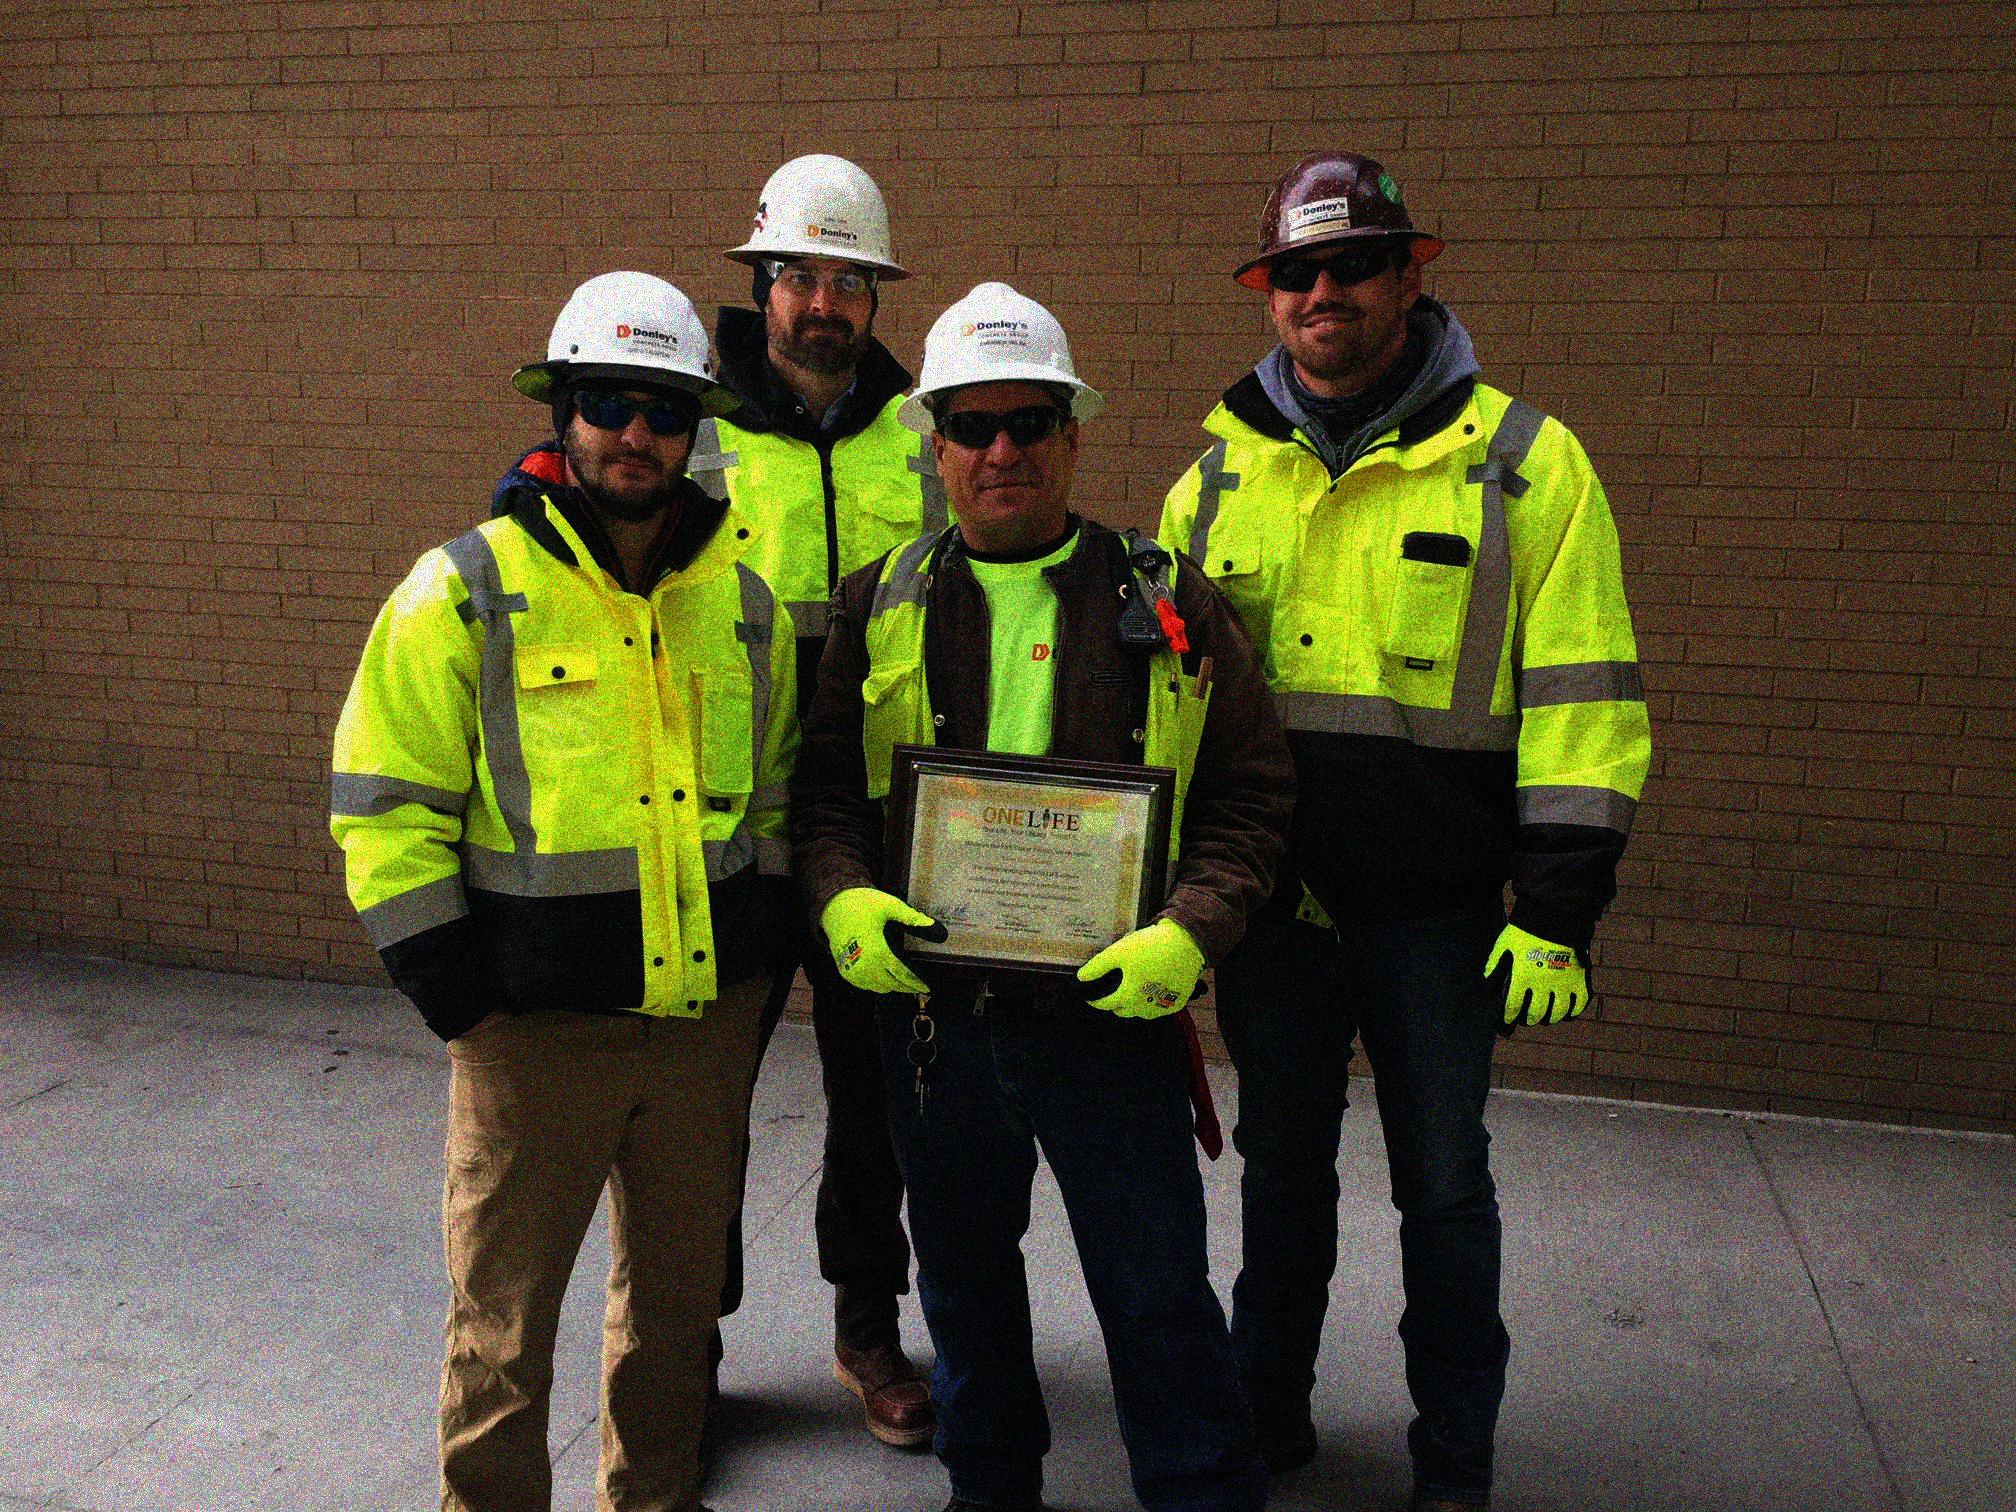helmet: (891, 278, 1106, 542), (1232, 149, 1449, 373), (538, 268, 724, 515), (719, 154, 906, 365)
